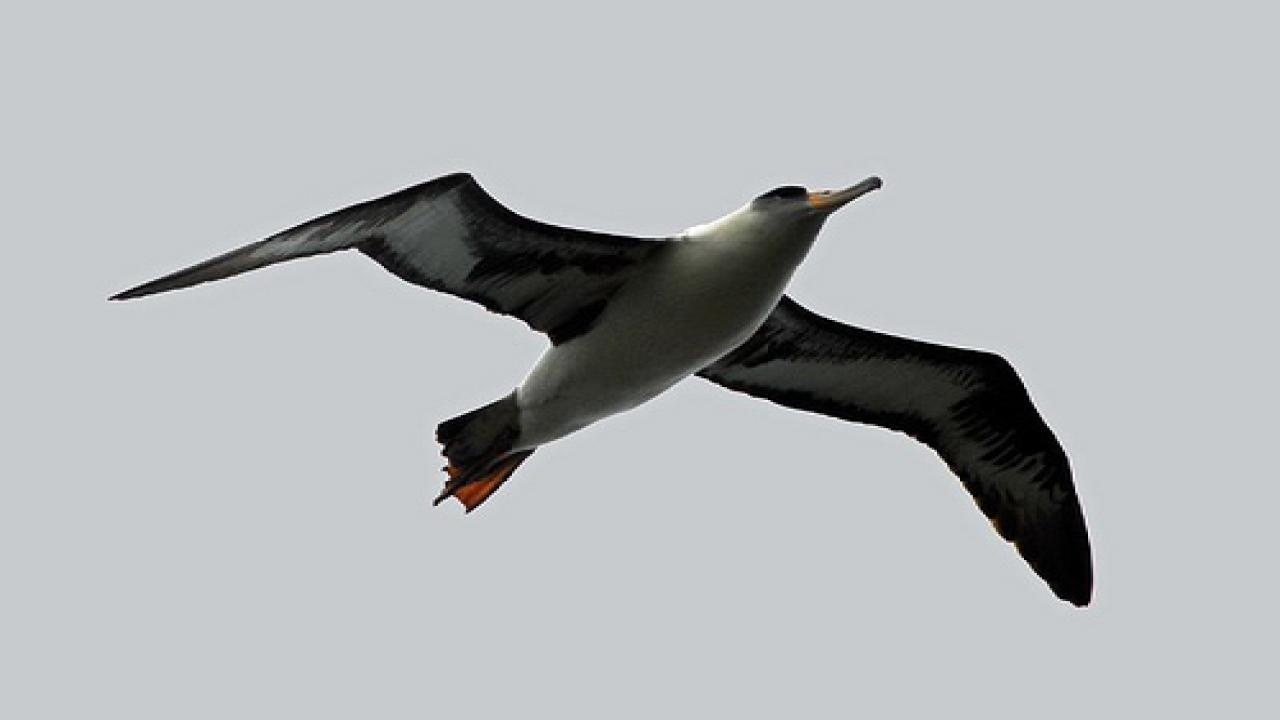Bird: (94, 157, 1102, 616)
